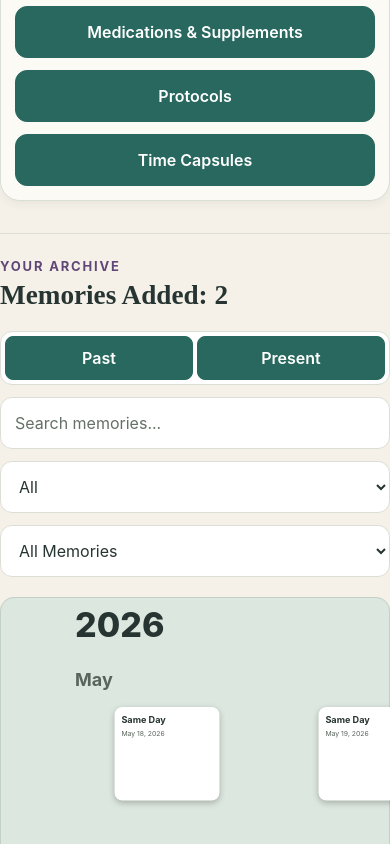
Scenario: keeps the controlled search input immediate and clearing restores all Memories
The width and height of the screenshot is (390, 844).
(page scrolled)
Type "First" into the field with placeholder "Search memories..." at (195, 423), box 0,397 -> 389,449
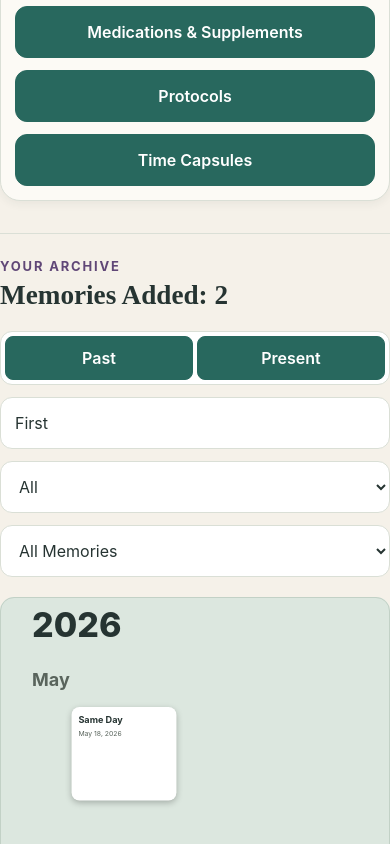
Expected: the button with test id "timeline-memory-memory-a" is shown, 72,707 -> 176,800
Clear the field with placeholder "Search memories..." at (195, 423), box 0,397 -> 389,449
(page scrolled)
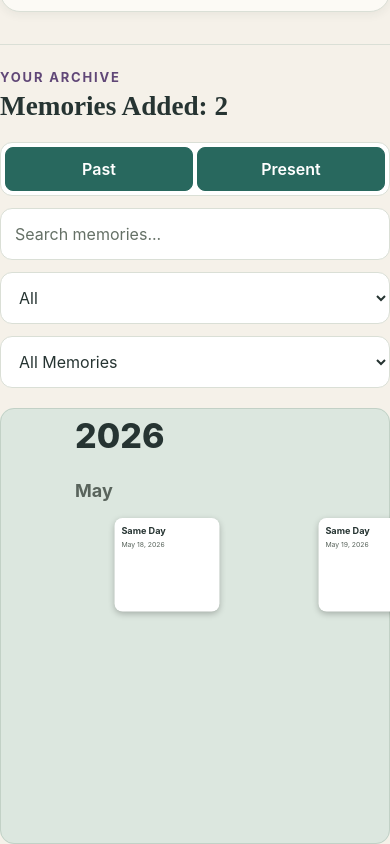
Expected: the button with test id "timeline-memory-memory-a" is shown, 115,518 -> 220,611
Result: the button with test id "timeline-memory-memory-b" is shown at 319,518 -> 389,611
